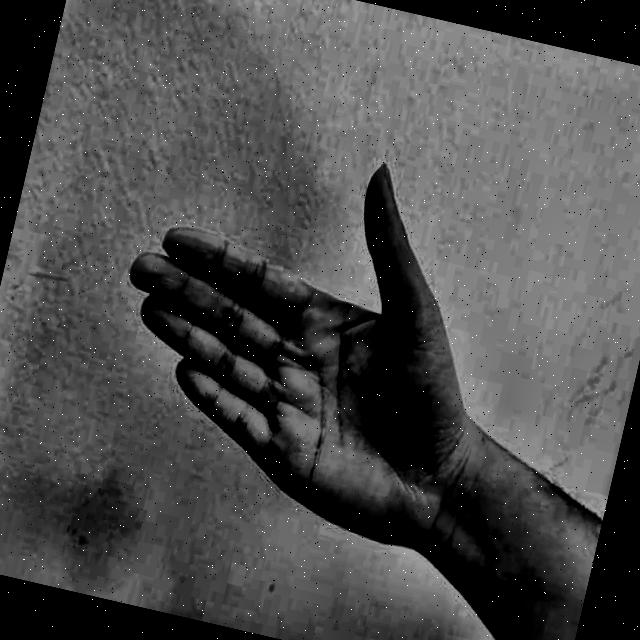Aa: (54, 82, 512, 571)
